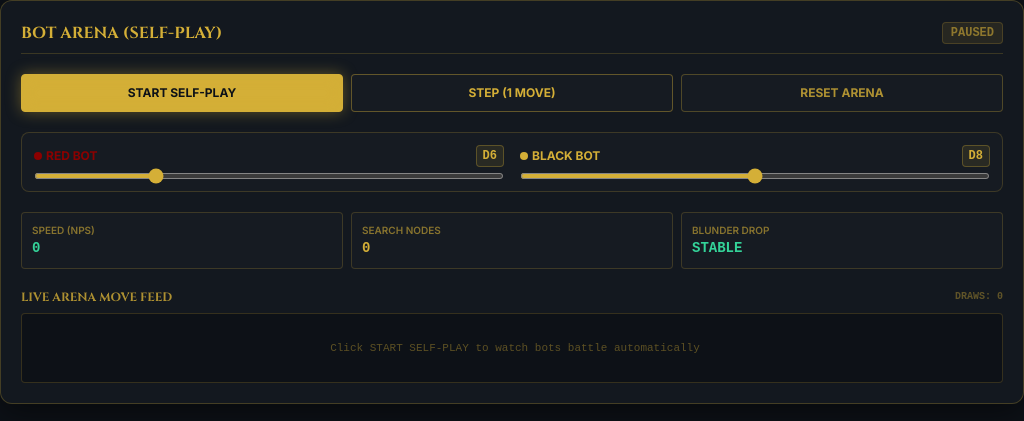
it: Milestone 5 Bot Arena Suite › toggles start and pause self-play states on button click
Step 1. Click the button "START SELF-PLAY" → (182, 93), box [21,74,343,112]
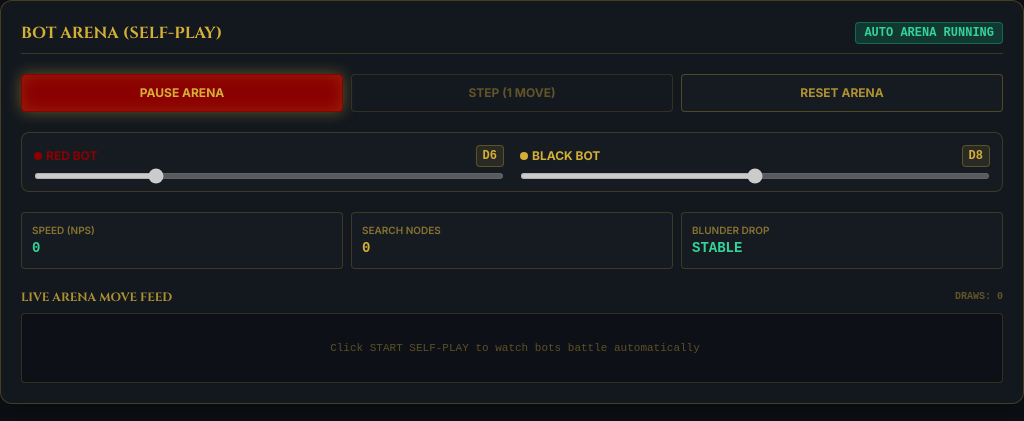
Expected: the text "AUTO ARENA RUNNING" is shown, [855,22,1003,44]
Expected: the button "PAUSE ARENA" is shown
Step 2. Click the button "PAUSE ARENA" → (182, 93), box [21,74,343,112]
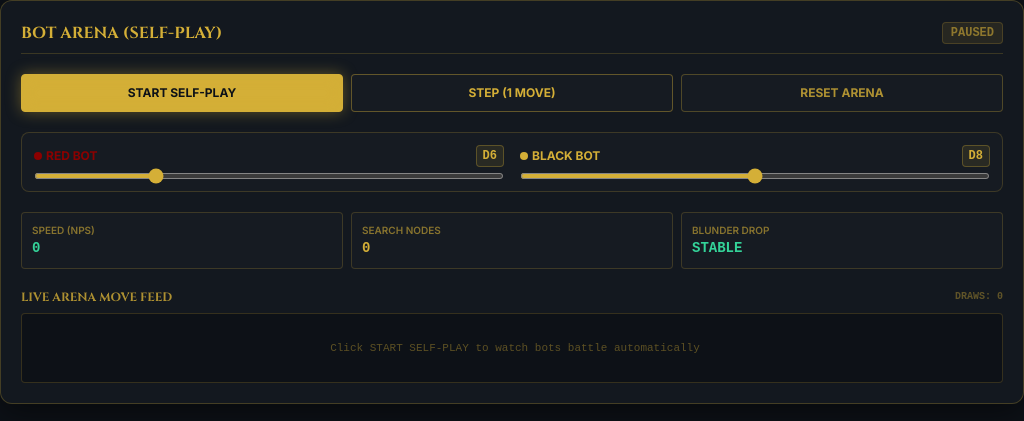
Expected: the text "PAUSED" is shown, [942,22,1003,44]
